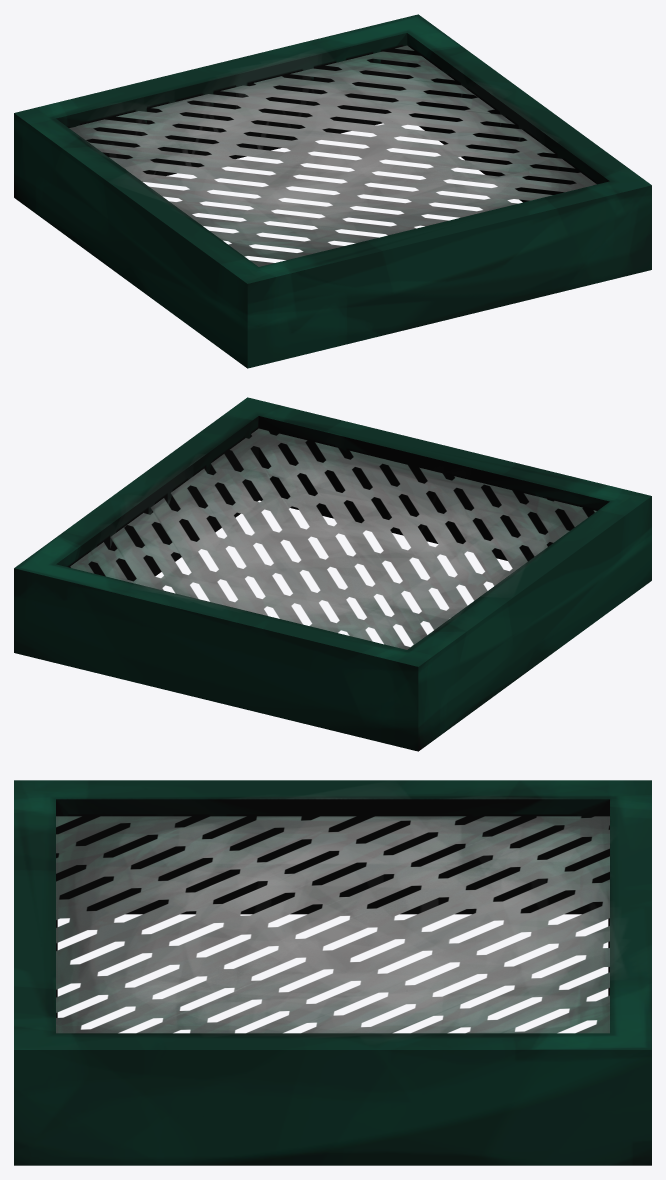
The model's file is Platform-2-1x1x02.glb.
The picture shows the model from 3 angles, top to bottom: view 1: azimuth 30°, elevation 25°; view 2: azimuth 150°, elevation 25°; view 3: azimuth 270°, elevation 25°; orthographic projection. The views are drawn at different scales.
Parts seen in each view (by area): view 1: Platform-2-HighPoly-col.001, Plane; view 2: Platform-2-HighPoly-col.001, Plane; view 3: Platform-2-HighPoly-col.001, Plane.
Boxes of the visible parts, x1=… form: Platform-2-HighPoly-col.001: x1=14, y1=14, x2=651, y2=368; Plane: x1=69, y1=45, x2=596, y2=266; Platform-2-HighPoly-col.001: x1=14, y1=397, x2=651, y2=751; Plane: x1=70, y1=428, x2=596, y2=649; Platform-2-HighPoly-col.001: x1=14, y1=780, x2=651, y2=1165; Plane: x1=56, y1=816, x2=609, y2=1033.
Size of what is drawn, in the model's own units: 1 by 0.2 by 1.
2 materials, 2 textured.
